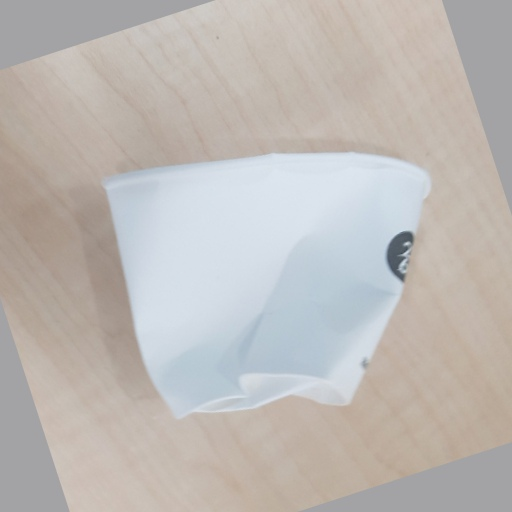Paper_1: (105, 152, 432, 419)
